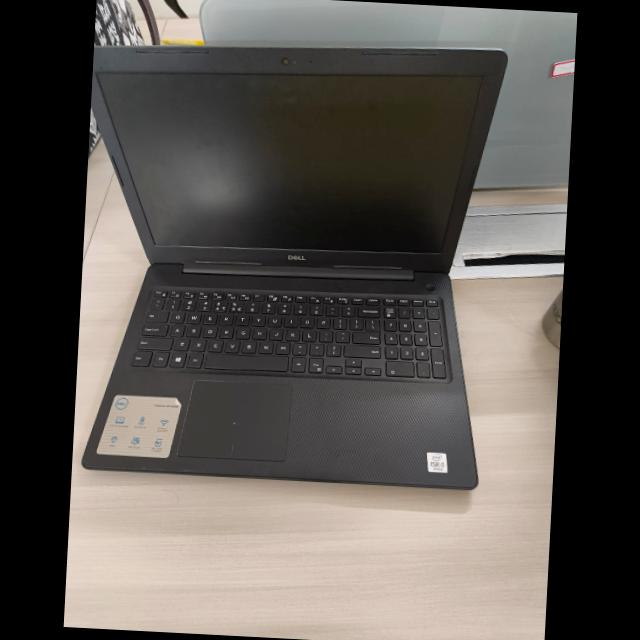laptop: (69, 11, 526, 530)
